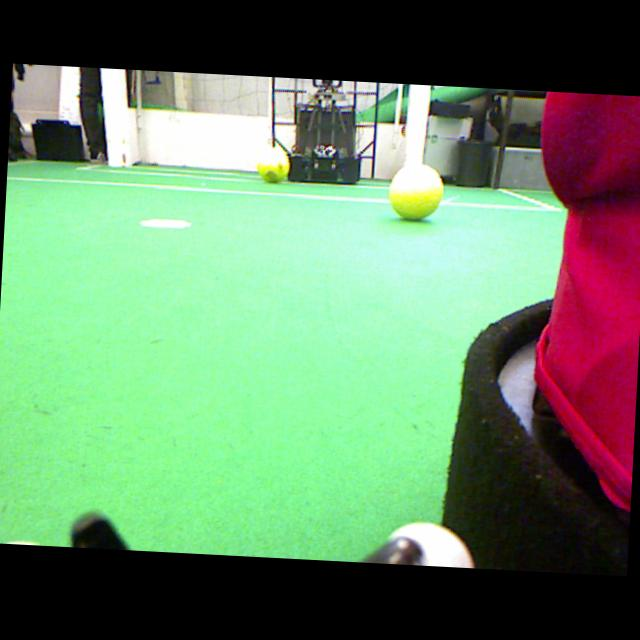ball: (388, 165, 444, 220), (258, 149, 290, 183)
goal: (102, 68, 126, 167), (404, 84, 431, 167)
robot: (288, 79, 361, 185)
